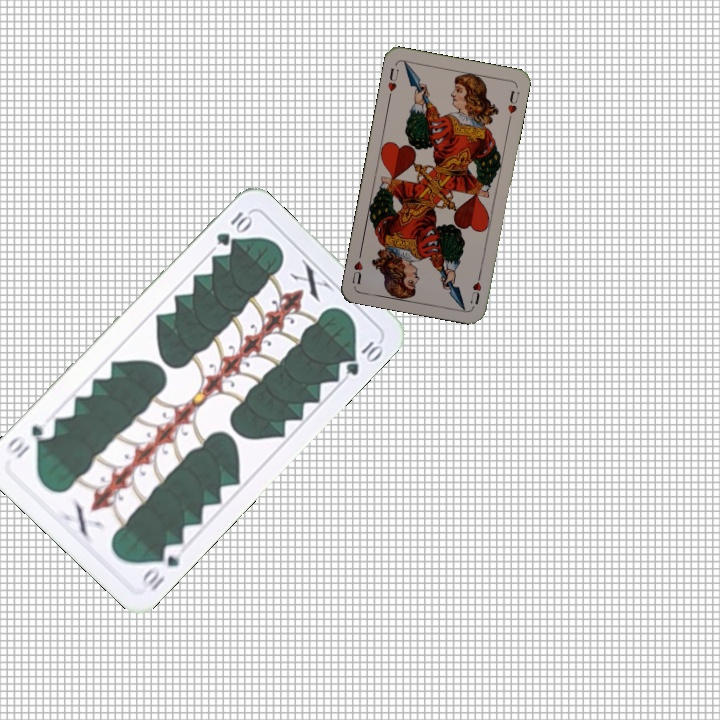G10: (136, 539, 187, 594), (212, 207, 255, 249)
HU: (466, 268, 484, 307), (384, 63, 401, 101)
